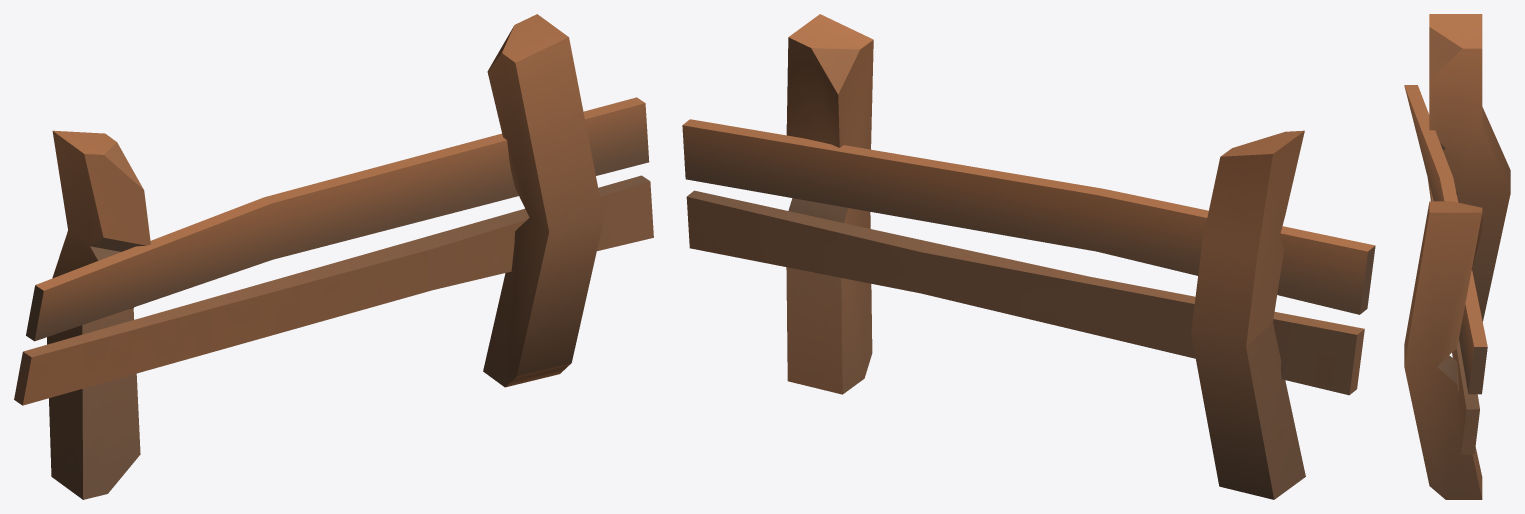
Rendered from Забор.fbx.
3 views of the same model, side by side, from view 1: azimuth 30°, elevation 25°; view 2: azimuth 150°, elevation 25°; view 3: azimuth 270°, elevation 25° (orthographic). The views are drawn at different scales.
Parts seen in each view (by area): view 1: Забор; view 2: Забор; view 3: Забор.
Boxes of the visible parts, <box> form: Забор: <box>14,14,653,499</box>; Забор: <box>682,14,1375,499</box>; Забор: <box>1404,14,1510,499</box>.
Bounding box in the file's own units: 32.3 × 16.52 × 5.53.
